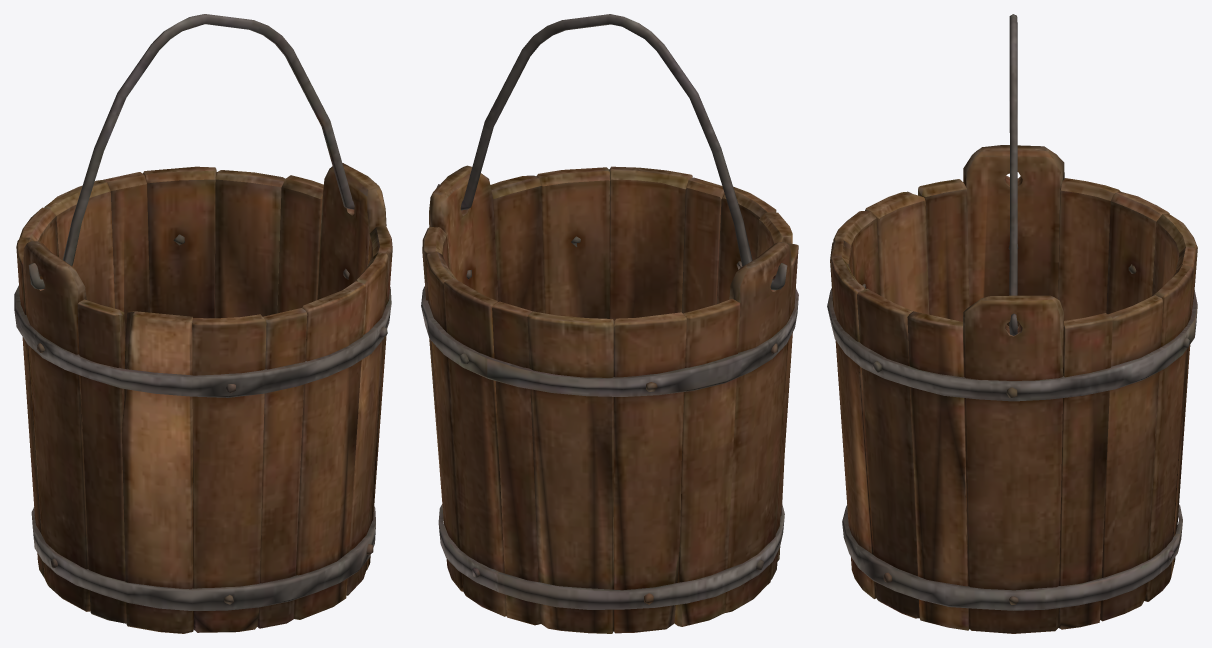
File: cubo_madera.glb
3 views of the same model, side by side, from view 1: azimuth 30°, elevation 25°; view 2: azimuth 150°, elevation 25°; view 3: azimuth 270°, elevation 25° (orthographic).
Parts seen in each view (by area): view 1: wooden_bucket_01; view 2: wooden_bucket_01; view 3: wooden_bucket_01.
Boxes of the visible parts, left/top/right/bottom form: wooden_bucket_01: left=14, top=14, right=392, bottom=633; wooden_bucket_01: left=421, top=14, right=798, bottom=633; wooden_bucket_01: left=827, top=14, right=1197, bottom=633.
Bounding box in the file's own units: 0.3663 × 0.5499 × 0.3419.
Materials: 1 (1 with a texture image).
